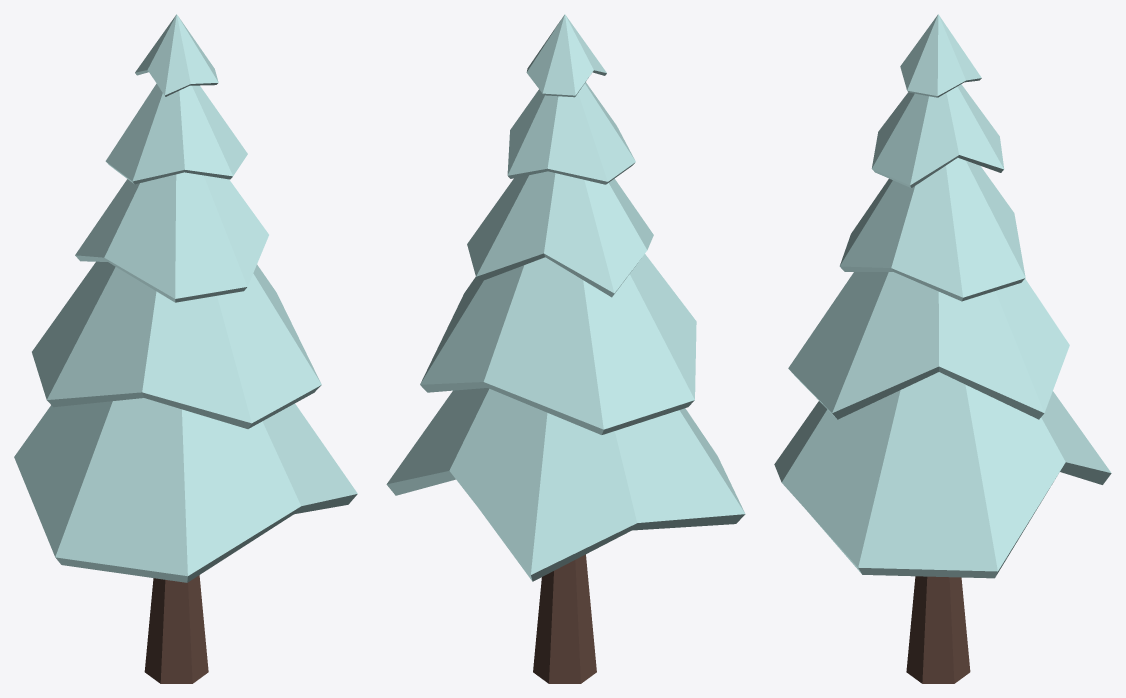
Rendered from WinterTree_01.fbx.
The picture shows the model from 3 angles, left to right: view 1: azimuth 30°, elevation 25°; view 2: azimuth 150°, elevation 25°; view 3: azimuth 270°, elevation 25°; orthographic projection.
Visible parts, largest first — view 1: WinterTree_01; view 2: WinterTree_01; view 3: WinterTree_01.
Boxes of the visible parts, <box> form: WinterTree_01: <box>14,14,357,683</box>; WinterTree_01: <box>386,14,745,683</box>; WinterTree_01: <box>774,14,1111,683</box>.
Size of the model in its own units: 485 by 1018 by 473.
